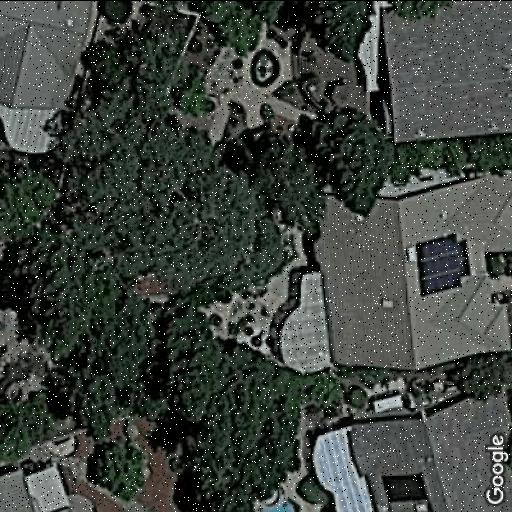solar-panel: (413, 230, 471, 296), (380, 468, 430, 504)
